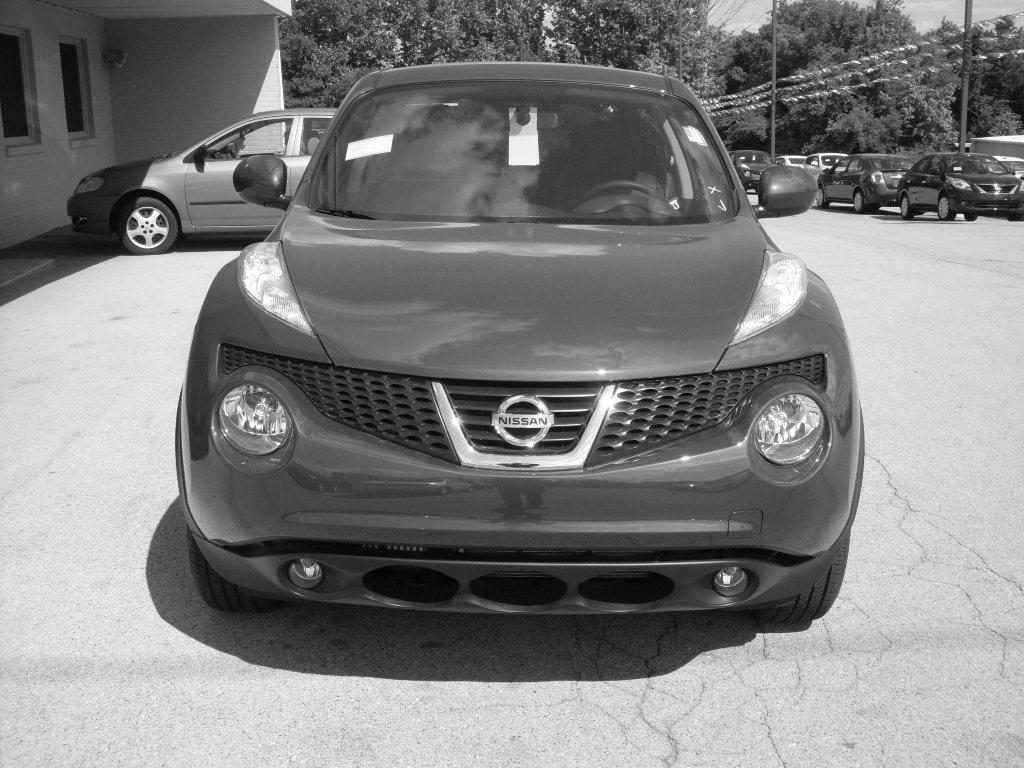car: (172, 57, 873, 632)
